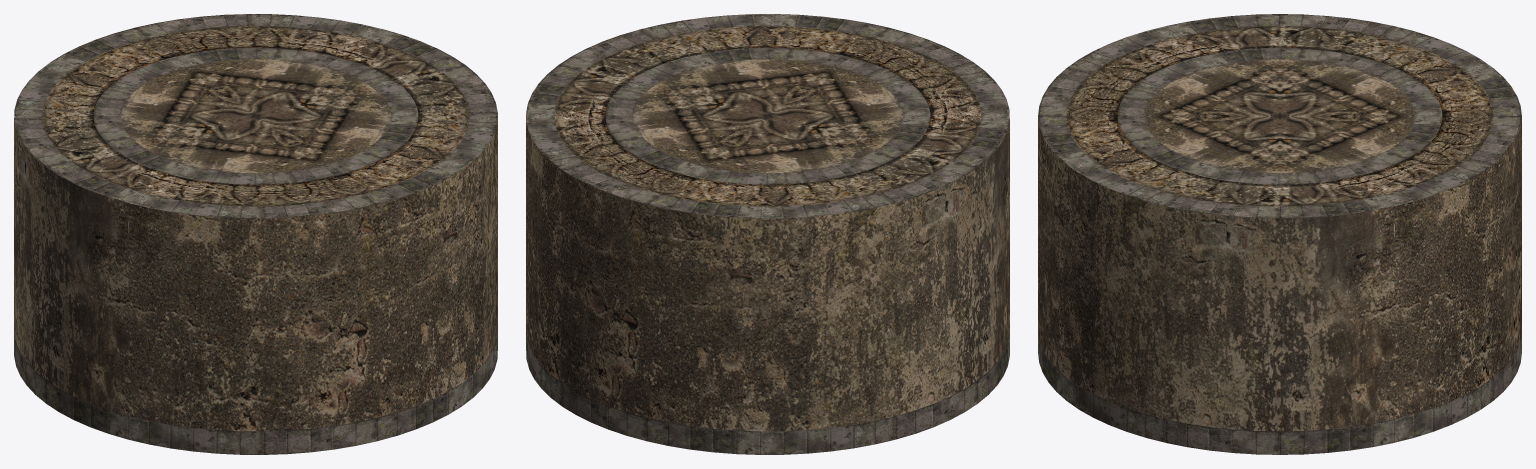
The model's file is materials_5_pillar_fat_12.fbx.
3 views of the same model, side by side, from view 1: azimuth 30°, elevation 25°; view 2: azimuth 150°, elevation 25°; view 3: azimuth 270°, elevation 25° (orthographic).
Parts seen in each view (by area): view 1: materials_5_pillar_fat_12; view 2: materials_5_pillar_fat_12; view 3: materials_5_pillar_fat_12.
Boxes of the visible parts, left/top/right/bottom form: materials_5_pillar_fat_12: left=14, top=14, right=497, bottom=454; materials_5_pillar_fat_12: left=526, top=14, right=1009, bottom=454; materials_5_pillar_fat_12: left=1038, top=14, right=1521, bottom=454.
Size of the model in its own units: 135 by 72.61 by 135.
